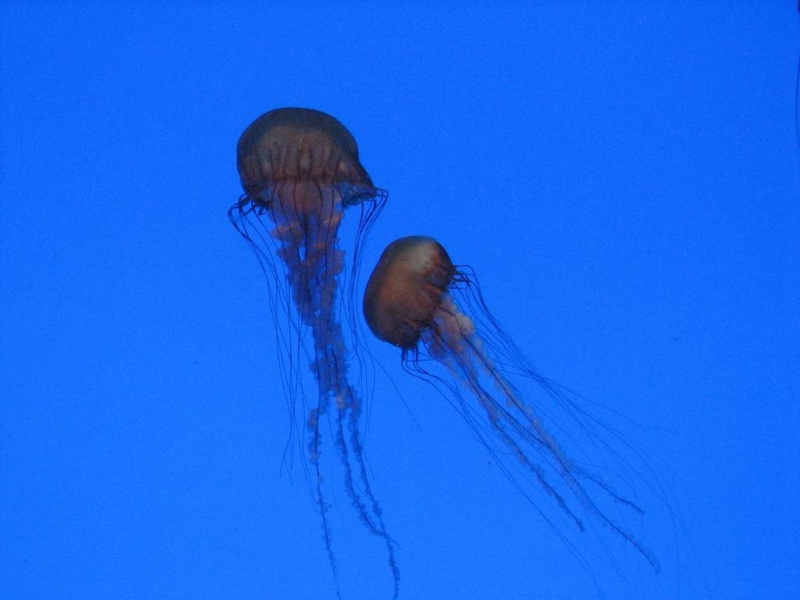Jellyfish: (359, 233, 689, 599), (227, 105, 394, 599)
